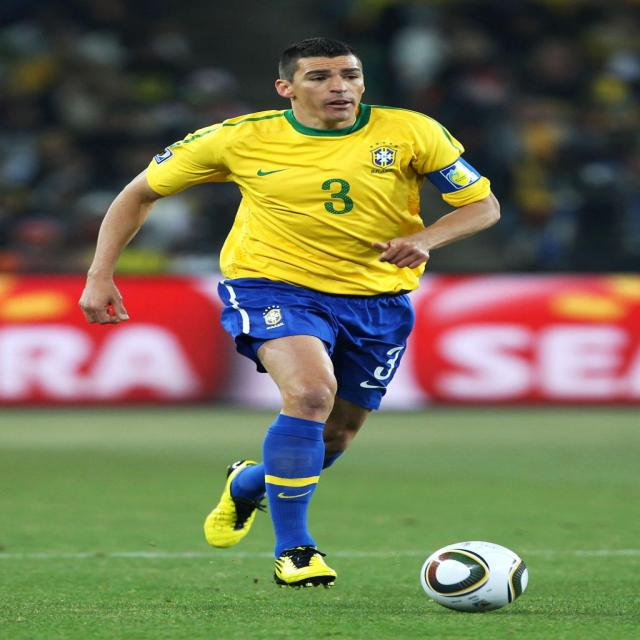Face: (276, 49, 379, 127)
